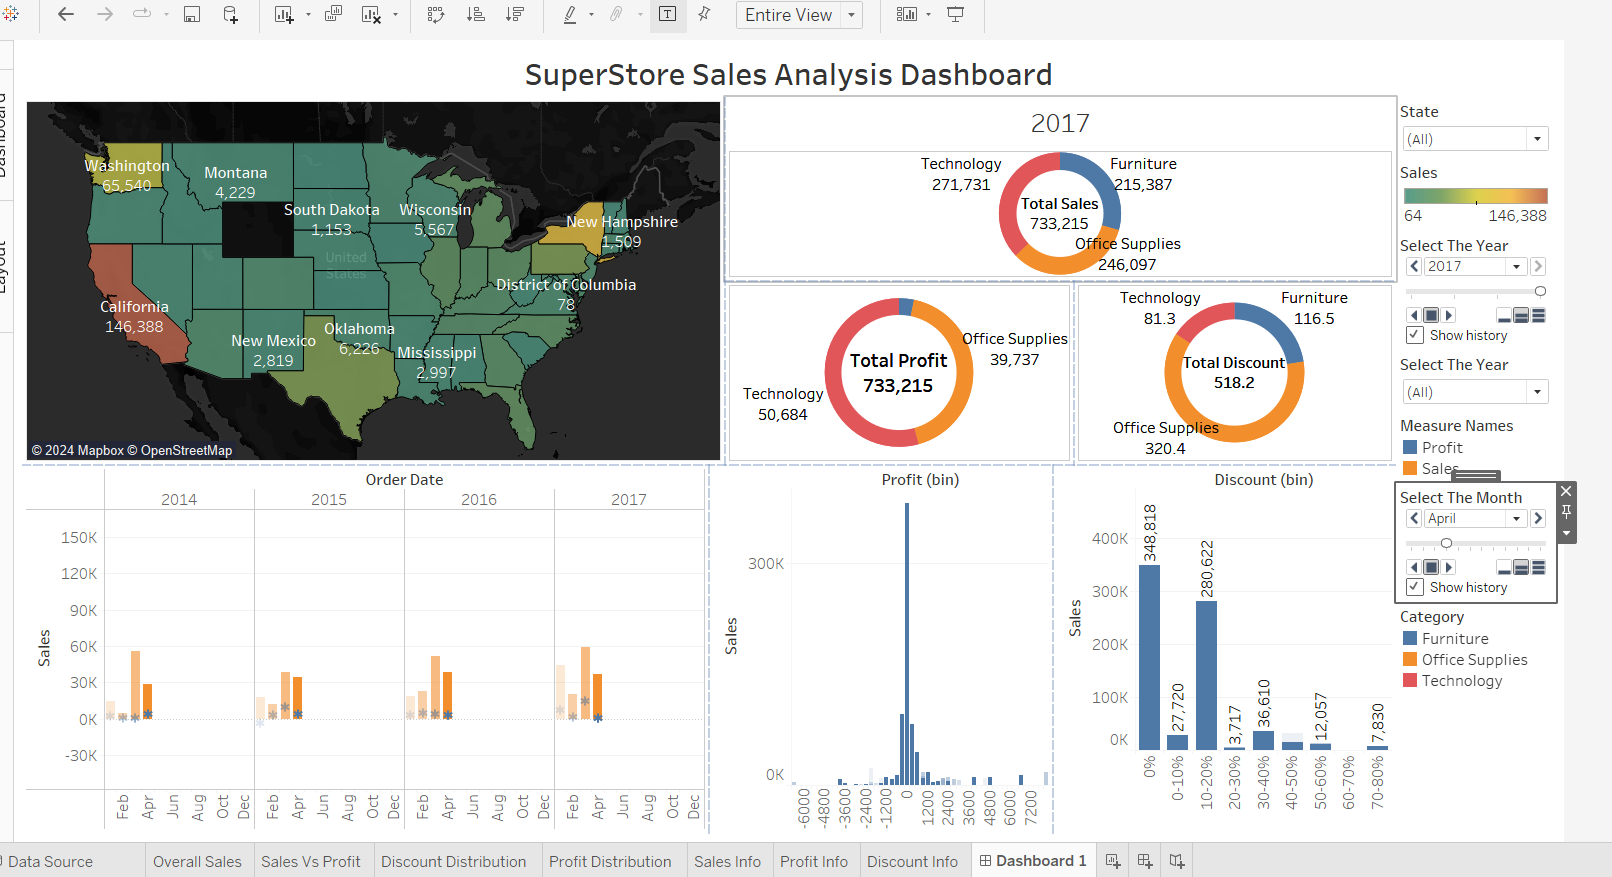

The dashboard page shown, as its layout file describes it:
{"tool":"tableau","page":{"name":"Dashboard 1","canvas":[1000,1000],"units":"permille","ordinal":0},"visuals":[{"type":"title","box":[5.2,10,989.7,61.1]},{"type":"worksheet","title":"Overall Sales","mark":"Automatic","box":[5.2,71.1,453.6,459.5]},{"type":"worksheet","title":"Sales Info","mark":"Pie","rows":["Calculation_1322087976580739073","Calculation_1322087976580739073"],"box":[458.7,71.1,432.9,229.7]},{"type":"filter","title":"Overall Sales","param":"[federated.13e83oa1fmrr2q169i9mz0w36mrj].[none:State:nk]","box":[891.6,71.1,103.2,76.1]},{"type":"legend","title":"Overall Sales","param":"[federated.13e83oa1fmrr2q169i9mz0w36mrj].[sum:Sales:qk]","box":[891.6,147.1,103.2,91]},{"type":"currpage","title":"Overall Sales","box":[891.6,238.2,103.2,148.4]},{"type":"worksheet","title":"Profit Info","mark":"Pie","rows":["Calculation_1322087976580739073","Calculation_1322087976580739073"],"box":[458.7,300.8,225.2,229.7]},{"type":"worksheet","title":"Discount Info","mark":"Pie","rows":["Calculation_1322087976580739073","Calculation_1322087976580739073"],"box":[683.9,300.8,207.7,229.7]},{"type":"filter","title":"Sales Vs Profit","param":"[federated.13e83oa1fmrr2q169i9mz0w36mrj].[yr:Order Date:ok]","box":[891.6,386.6,103.2,76.1]},{"type":"legend","title":"Sales Vs Profit","param":"[federated.13e83oa1fmrr2q169i9mz0w36mrj].[:Measure Names]","box":[891.6,462.6,103.2,89.8]},{"type":"worksheet","title":"Sales Vs Profit","mark":"Automatic","rows":["Sales","Profit"],"cols":["Order Date","Order Date"],"box":[5.2,530.5,443.2,459.5]},{"type":"worksheet","title":"Profit Distribution","mark":"Automatic","rows":["Sales"],"cols":["Profit (bin)"],"box":[448.4,530.5,221.6,459.5]},{"type":"worksheet","title":"Discount Distribution","mark":"Automatic","rows":["Sales"],"cols":["Discount (bin)"],"box":[670,530.5,221.6,459.5]},{"type":"currpage","title":"Sales Vs Profit","box":[891.6,552.4,103.2,148.4]},{"type":"legend","title":"Sales Info","param":"[federated.13e83oa1fmrr2q169i9mz0w36mrj].[none:Category:nk]","box":[891.6,700.8,103.2,116]}]}

Visuals, with their boxes on the dashboard's canvas, which has no fixed pixel size, in thousandths of its width and height (x1, y1, x2, y2). These are canvas units, not pixel positions in the 1612x877 screenshot, which may show the page scaled, cropped or inside an application window:
title: (left=5, top=10, right=995, bottom=71)
"Overall Sales" worksheet: (left=5, top=71, right=459, bottom=531)
"Sales Info" worksheet (Pie marks): (left=459, top=71, right=892, bottom=301)
"Overall Sales" filter: (left=892, top=71, right=995, bottom=147)
"Overall Sales" legend: (left=892, top=147, right=995, bottom=238)
"Overall Sales" currpage: (left=892, top=238, right=995, bottom=387)
"Profit Info" worksheet (Pie marks): (left=459, top=301, right=684, bottom=530)
"Discount Info" worksheet (Pie marks): (left=684, top=301, right=892, bottom=530)
"Sales Vs Profit" filter: (left=892, top=387, right=995, bottom=463)
"Sales Vs Profit" legend: (left=892, top=463, right=995, bottom=552)
"Sales Vs Profit" worksheet: (left=5, top=530, right=448, bottom=990)
"Profit Distribution" worksheet: (left=448, top=530, right=670, bottom=990)
"Discount Distribution" worksheet: (left=670, top=530, right=892, bottom=990)
"Sales Vs Profit" currpage: (left=892, top=552, right=995, bottom=701)
"Sales Info" legend: (left=892, top=701, right=995, bottom=817)
